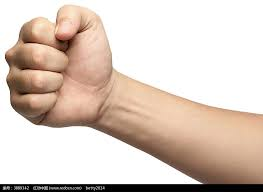fist: (3, 2, 114, 134)
